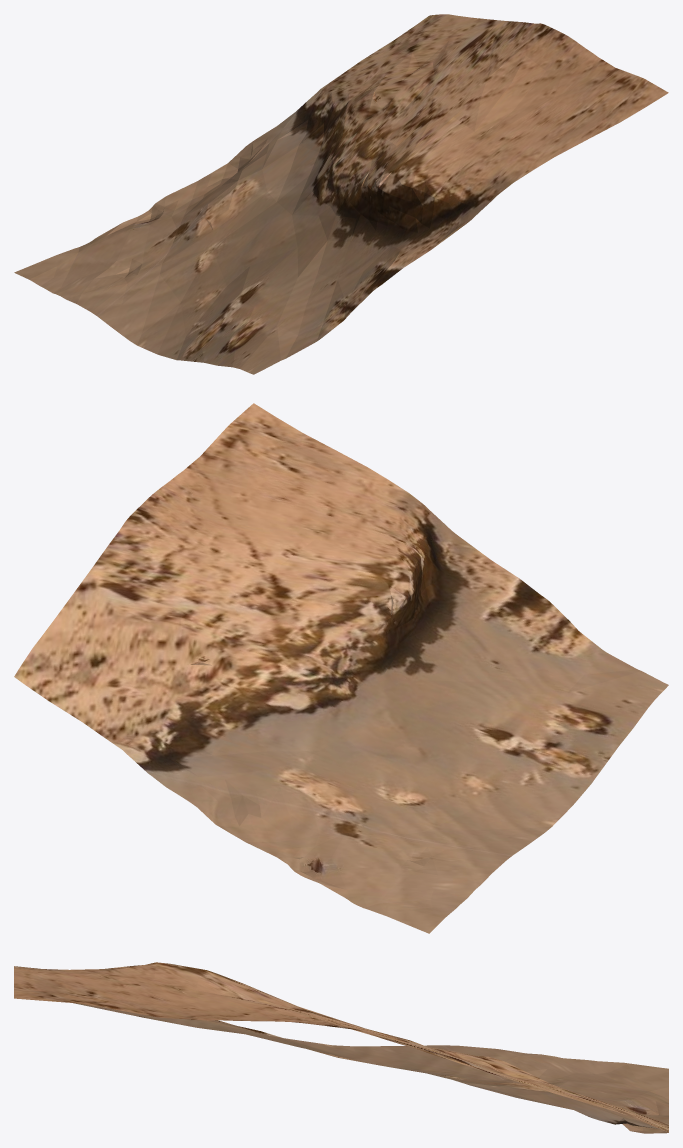
The picture shows the model from 3 angles, top to bottom: view 1: azimuth 30°, elevation 25°; view 2: azimuth 150°, elevation 25°; view 3: azimuth 270°, elevation 25°; orthographic projection. The views are drawn at different scales.
Bounding box in the file's own units: 1.04 × 0.6104 × 1.04.
3 materials, 3 textured.
